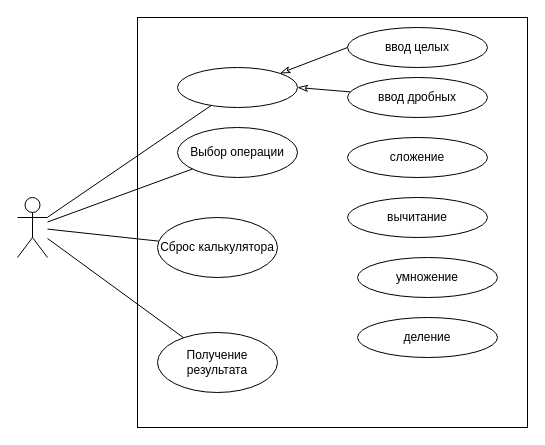
Image size: 545x445. Some labels were removed from this diagram. Here are the shapes that lost their labels. From the top down, the centre of each, then its label:
(x=237, y=87): Ввод чисел
(x=32, y=227): User
